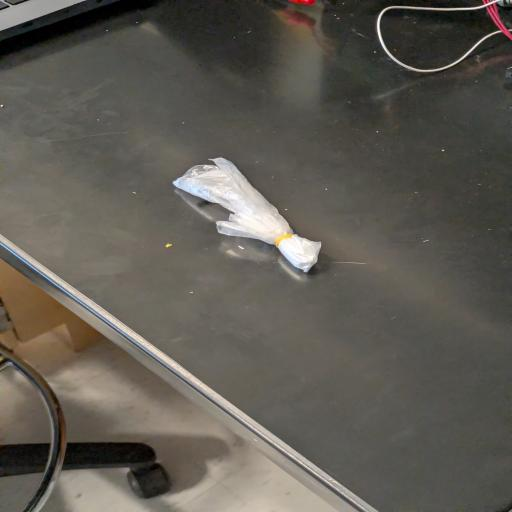rubberband: (166, 156, 324, 276)
